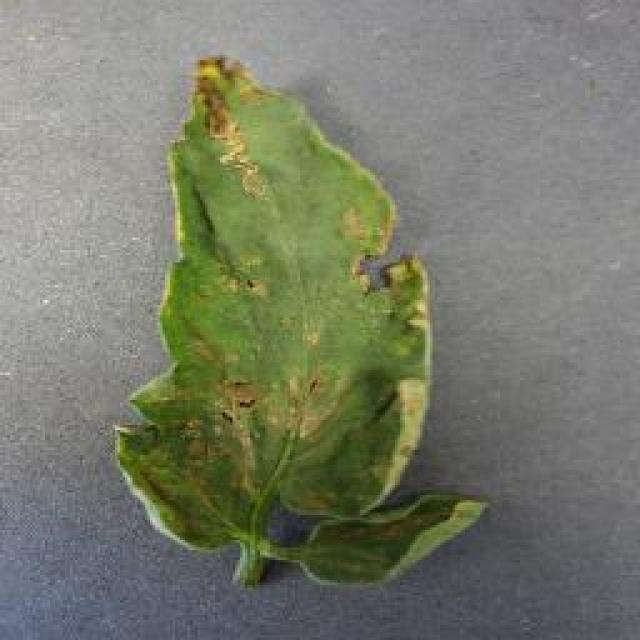Tomato bacterial spot leaf: (114, 49, 493, 588)
